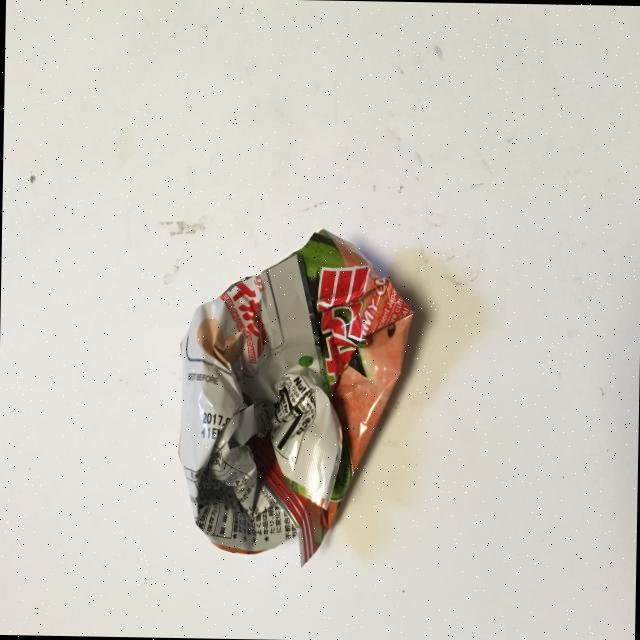plastic: (175, 224, 415, 568)
